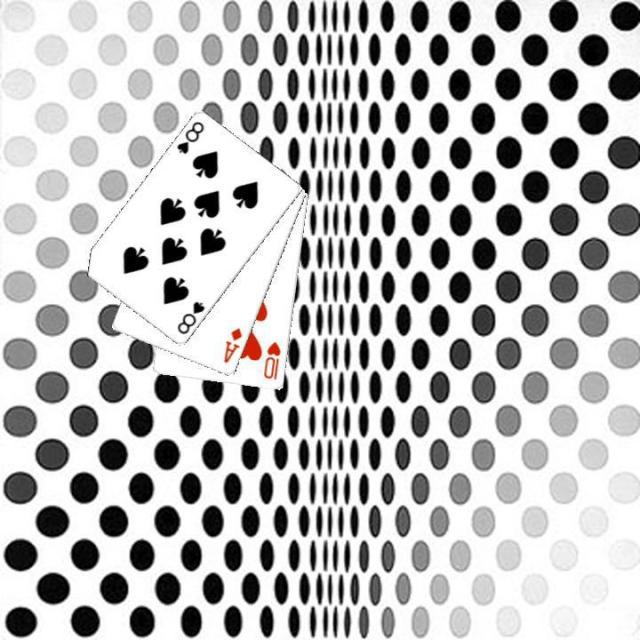10H: (261, 338, 283, 382)
8S: (173, 298, 207, 337), (173, 118, 207, 157)
AD: (220, 325, 245, 366)
